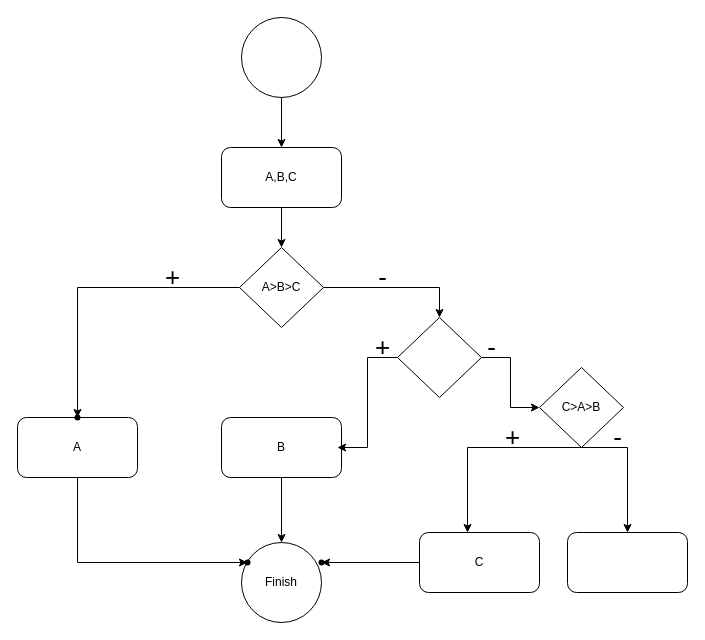
The diagram is 705 pixels wide and 640 high, and some of its shapes have lost their labels. Here are the shapes that lost their labels. From the top down, the centre of each, then its label:
the point at 281,57: Start
the point at 439,357: B>A>C
the point at 627,562: A=B=C
